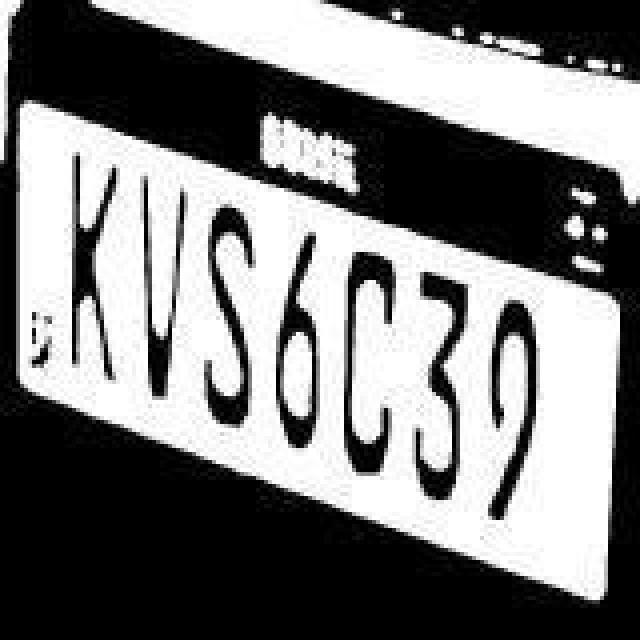3: (404, 264, 476, 504)
6: (272, 220, 336, 452)
9: (478, 290, 546, 534)
C: (336, 244, 400, 492)
K: (64, 142, 128, 386)
S: (200, 198, 264, 442)
V: (132, 168, 188, 416)
